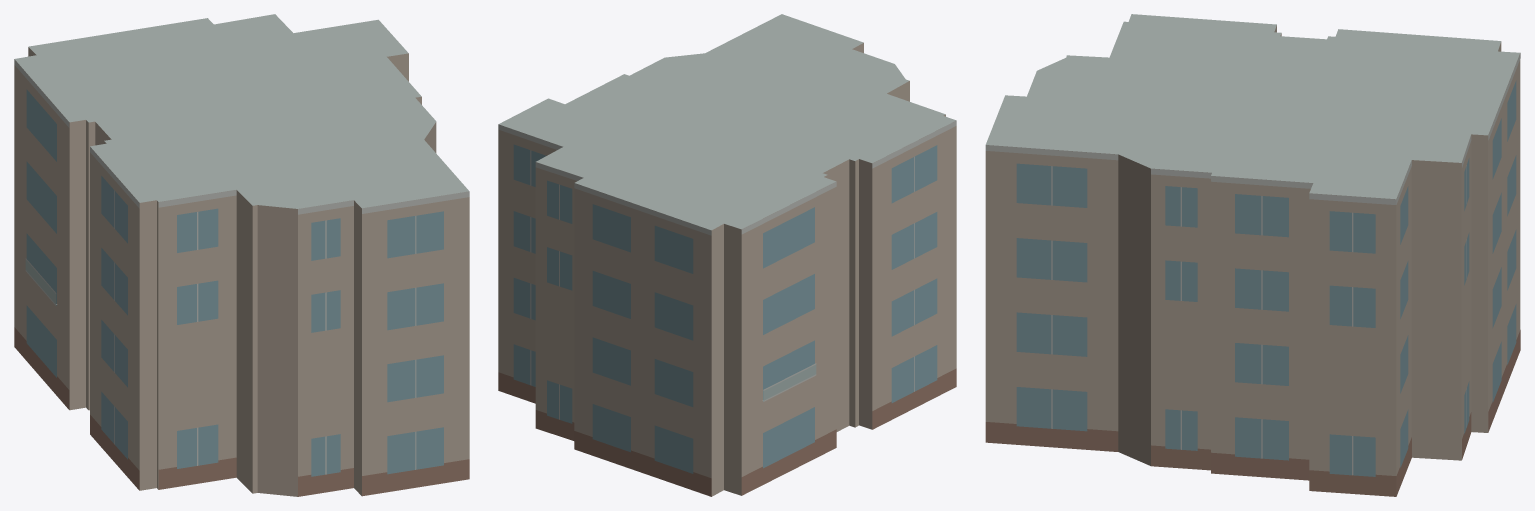
The model's file is survey-upis-32749308.glb.
The picture shows the model from 3 angles, left to right: view 1: azimuth 30°, elevation 25°; view 2: azimuth 150°, elevation 25°; view 3: azimuth 270°, elevation 25°; orthographic projection. The views are drawn at different scales.
Visible parts, largest first — view 1: survey-upis-32749308.tmp; view 2: survey-upis-32749308.tmp; view 3: survey-upis-32749308.tmp.
Part boxes in pixels (x1,y1,x2,y2): survey-upis-32749308.tmp: [14, 14, 469, 496]; survey-upis-32749308.tmp: [498, 14, 956, 496]; survey-upis-32749308.tmp: [985, 14, 1520, 496].
Bounding box in the file's own units: 16.29 × 12.2 × 19.87.
